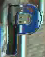Parking: (7, 2, 44, 55)
